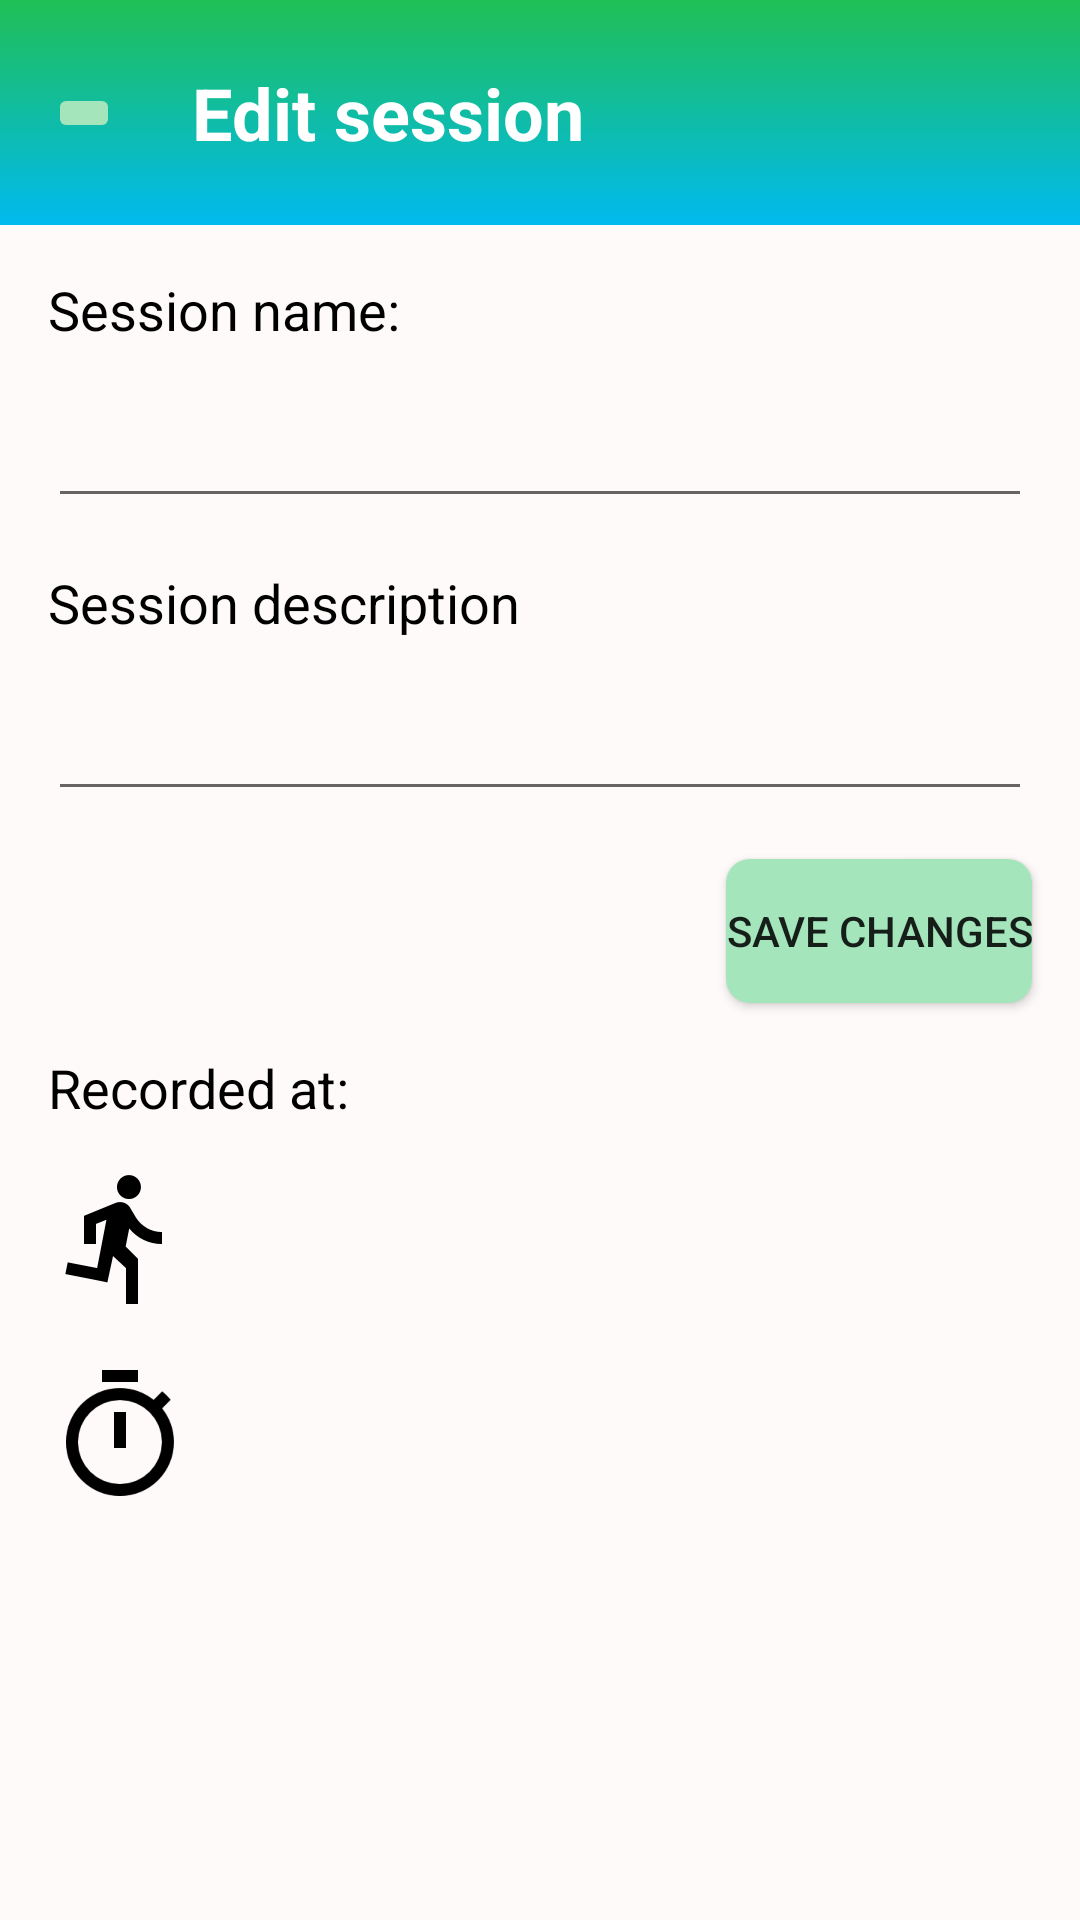

Named icons in this screenshot (1080px×1920px) and their centers, point (x, y):
directions run: point (113, 1239)
timer: point (120, 1433)
